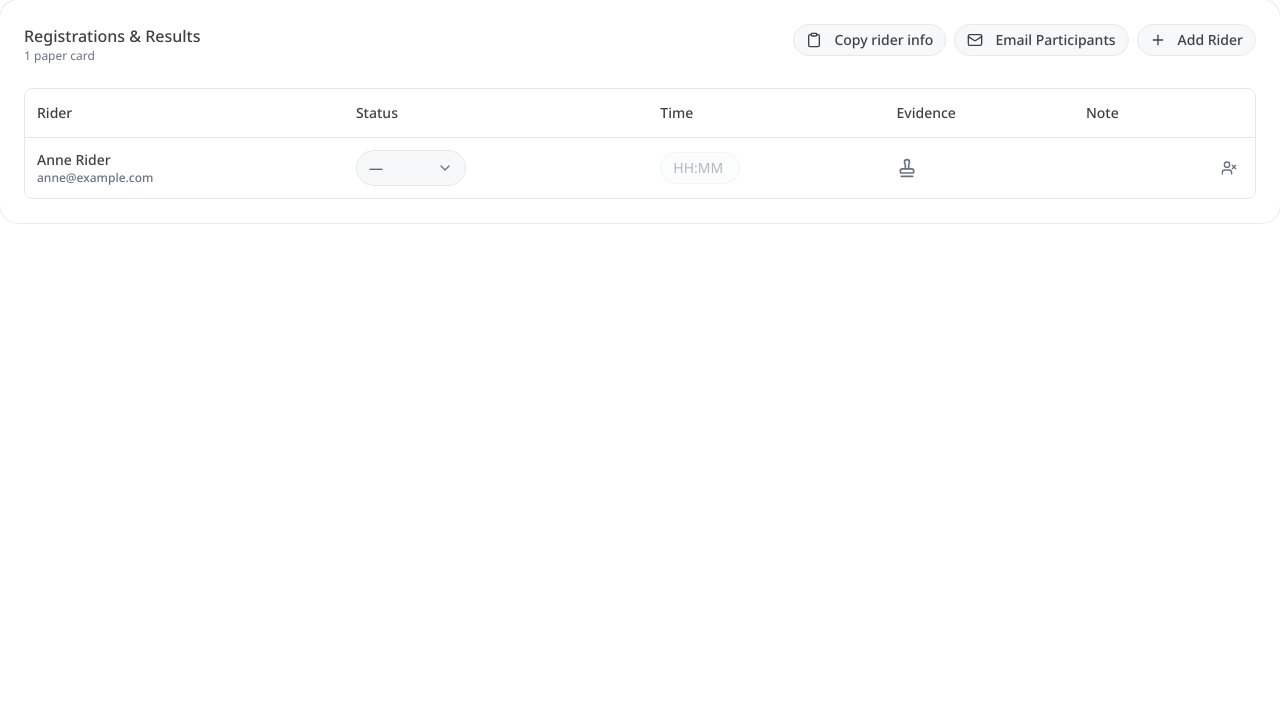
Test: EventResultsManager — check-in evidence › opens the check-in dialog on click
Click the button titled "View digital check-ins".
click(906, 168)  # box [896,158,916,178]
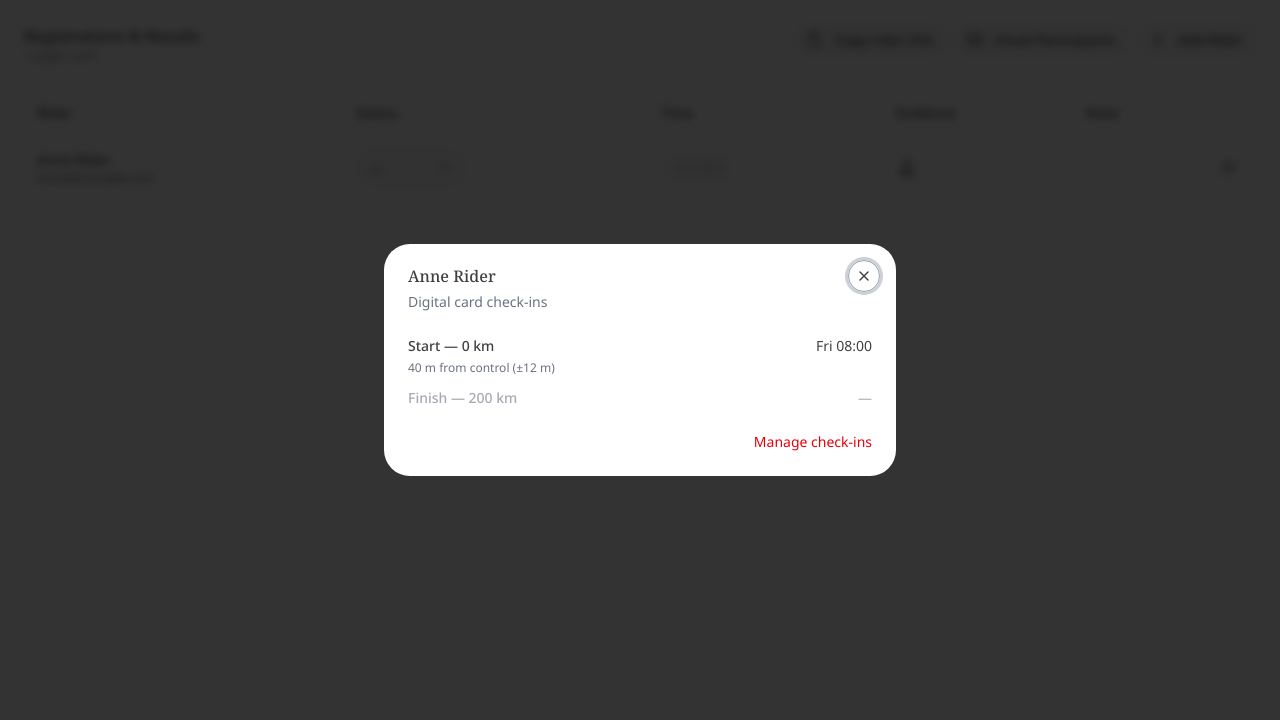
Check: the text "Digital card check-ins" is shown, box [408,292,548,311]
Check: the text "Start — 0 km" is shown, box [408,336,494,356]
